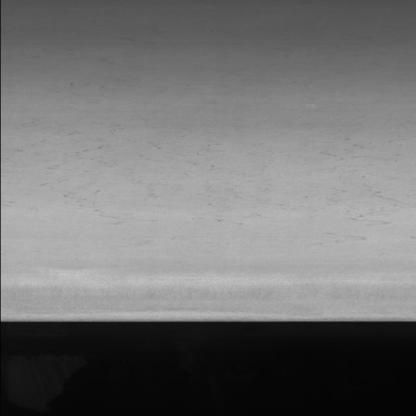silk_spot: (0, 126, 384, 241)
